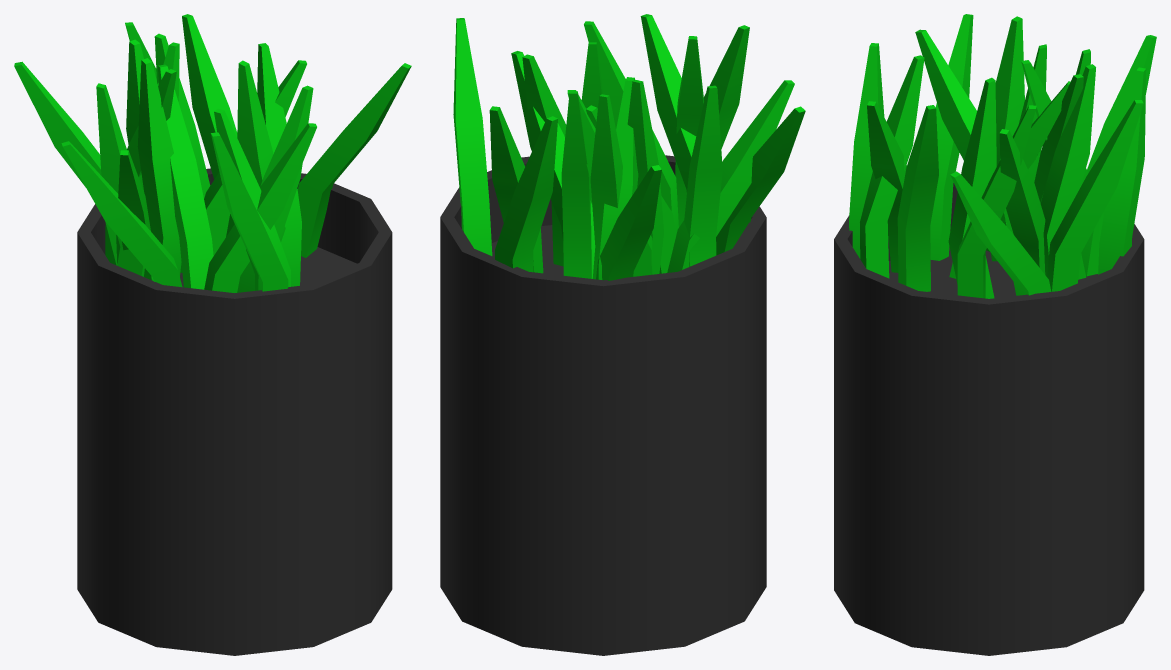
Rendered from planta_2.fbx.
The picture shows the model from 3 angles, left to right: view 1: azimuth 30°, elevation 25°; view 2: azimuth 150°, elevation 25°; view 3: azimuth 270°, elevation 25°; orthographic projection. The views are drawn at different scales.
Visible parts, largest first — view 1: tiesto_1; view 2: tiesto_1; view 3: tiesto_1.
Part boxes in pixels (x1=…): tiesto_1: x1=14, y1=14, x2=411, y2=655; tiesto_1: x1=440, y1=14, x2=805, y2=655; tiesto_1: x1=834, y1=14, x2=1156, y2=655.
Bounding box in the file's own units: 15.09 × 22.01 × 12.49.
